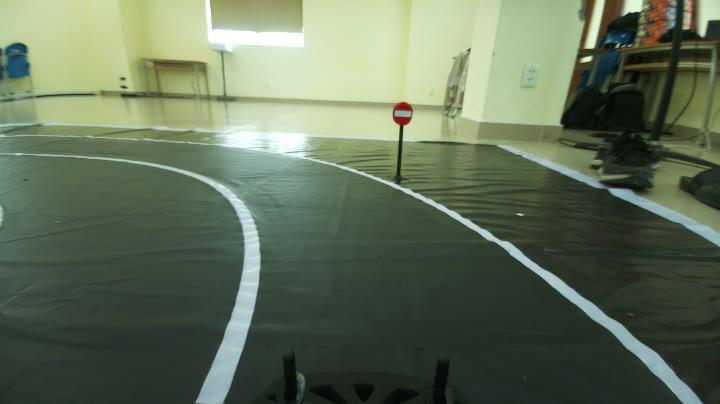no_entry: (390, 100, 417, 127)
